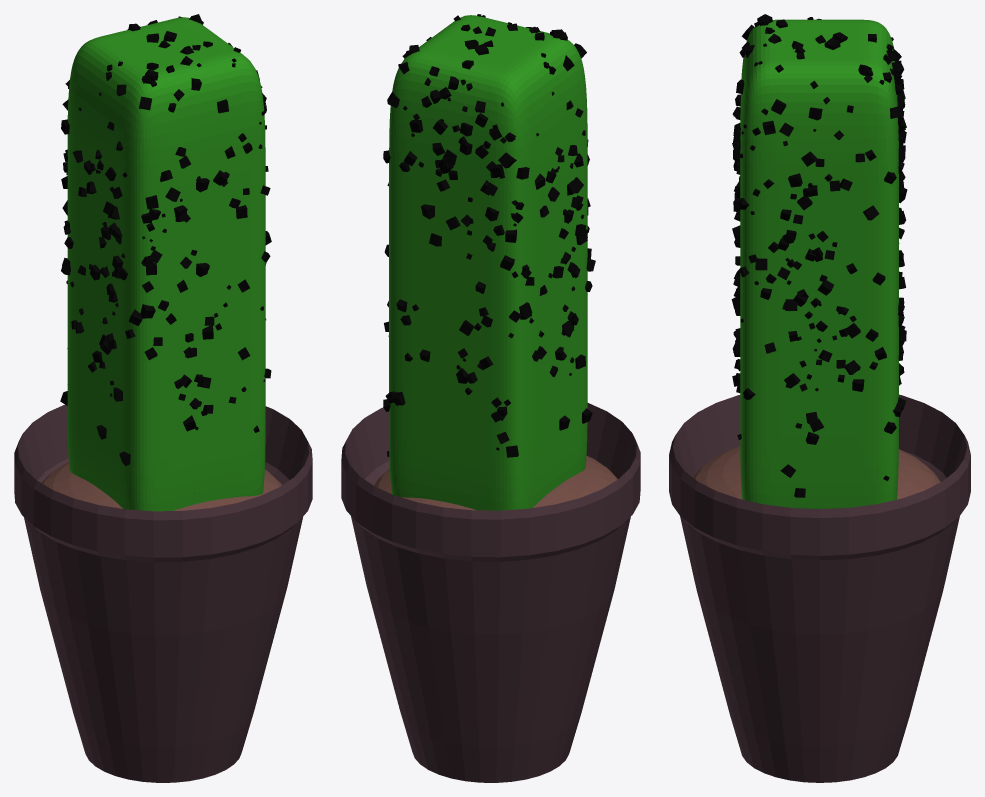
Rendered from Cactus.fbx.
3 renders of one model, left to right at view 1: azimuth 30°, elevation 25°; view 2: azimuth 150°, elevation 25°; view 3: azimuth 270°, elevation 25°, orthographic.
Parts seen in each view (by area): view 1: Cactus; view 2: Cactus; view 3: Cactus.
Part boxes in pixels (bbox=[...]): Cactus: bbox=[14, 14, 312, 782]; Cactus: bbox=[341, 14, 640, 782]; Cactus: bbox=[669, 14, 970, 782].
Bounding box in the file's own units: 114 × 114 × 299.
